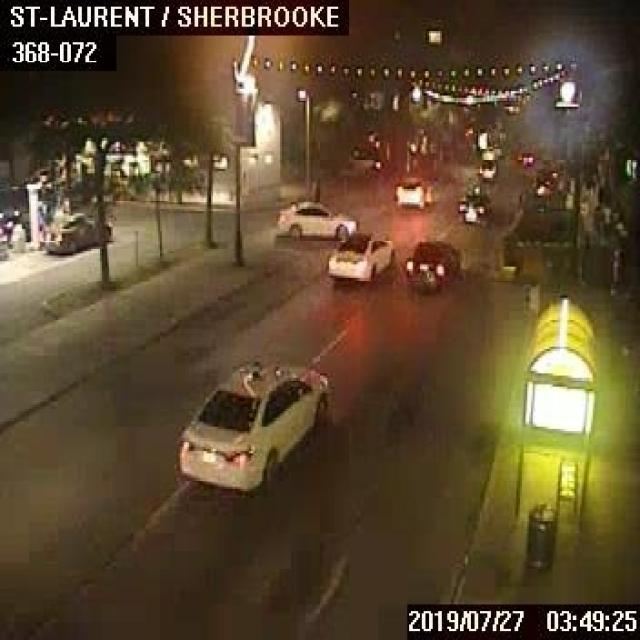vehicle: (174, 358, 331, 496), (327, 230, 393, 284), (276, 198, 355, 238), (38, 210, 111, 253), (402, 236, 460, 284), (393, 173, 436, 206), (457, 187, 492, 224), (478, 158, 496, 178), (518, 151, 534, 167)
